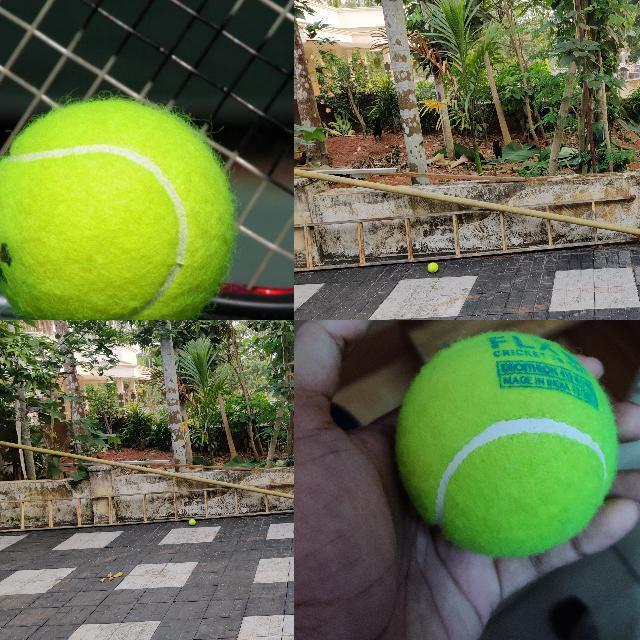tennis-ball: (0, 96, 237, 319), (397, 333, 618, 555), (428, 262, 439, 272), (189, 519, 196, 525)
